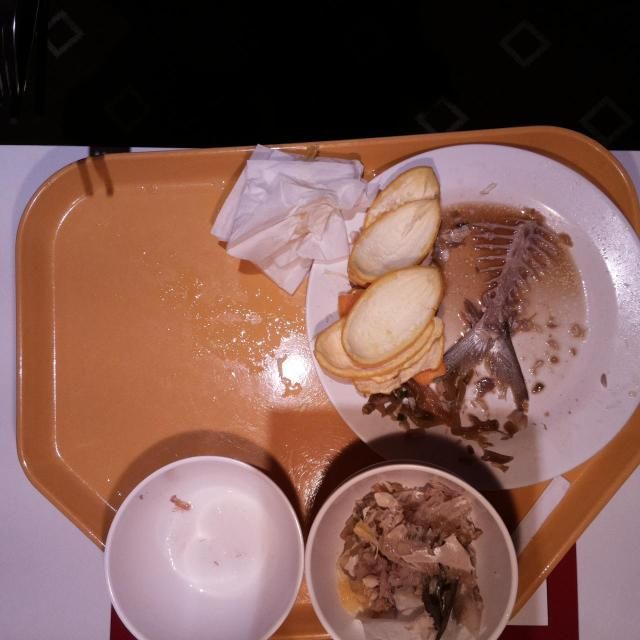Bone-fish: (442, 216, 558, 382), (346, 495, 472, 615)
Orange-peel: (314, 163, 442, 397)
